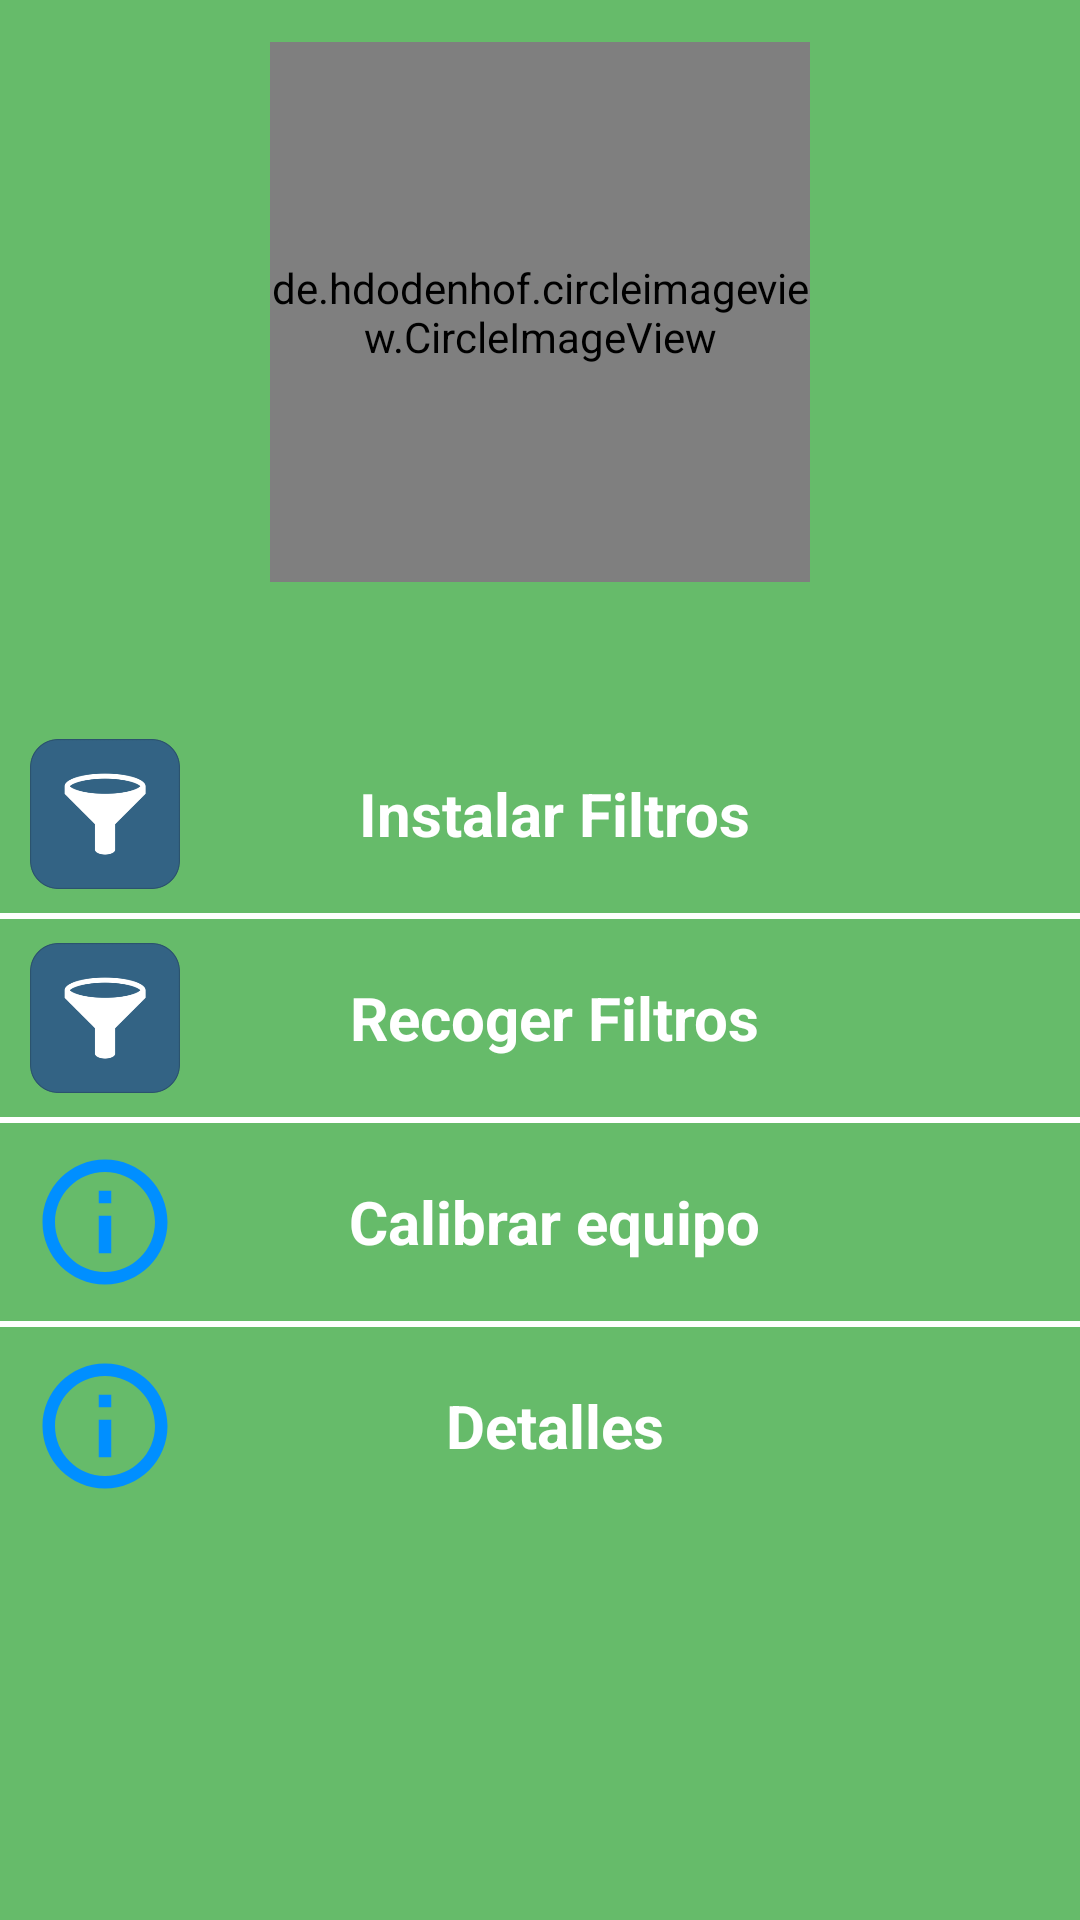

Where to tap for icons on this 1080*1920 app screen, as (x,y):
filter: (105,814), (105,1018)
info: (105,1222), (105,1426)
